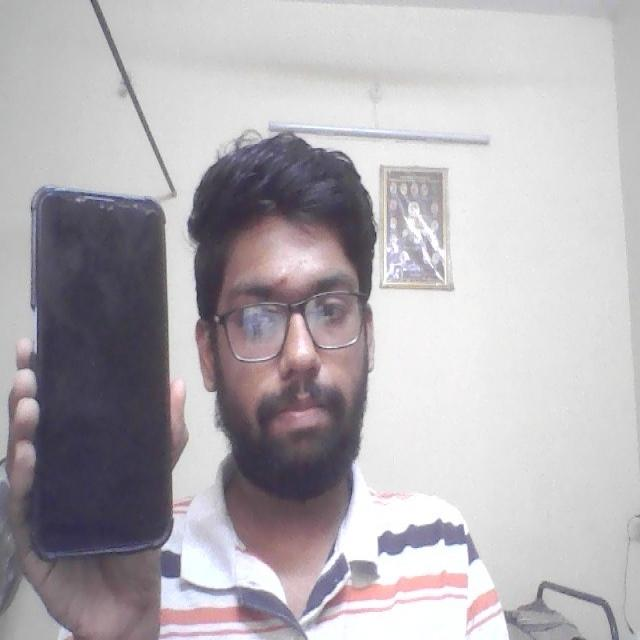Mobile: (24, 181, 178, 560)
